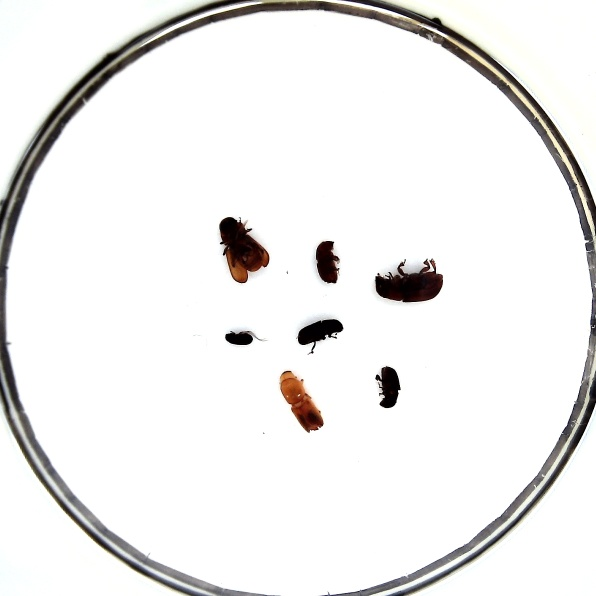armandi: (297, 318, 344, 345), (380, 366, 401, 408)
boerner: (279, 371, 324, 434)
coleoptera: (225, 331, 253, 344)
leconte: (219, 217, 269, 284), (375, 272, 443, 303)
linnaeus: (316, 241, 339, 284)
